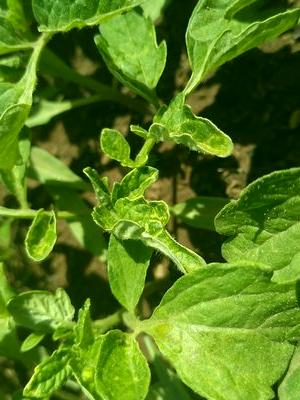Tomato leaf mosaic virus: (150, 262, 292, 393), (84, 164, 207, 273), (97, 4, 170, 111), (129, 105, 247, 163), (98, 216, 169, 310), (93, 326, 157, 396), (8, 285, 76, 336), (24, 345, 84, 400), (17, 206, 67, 267)
